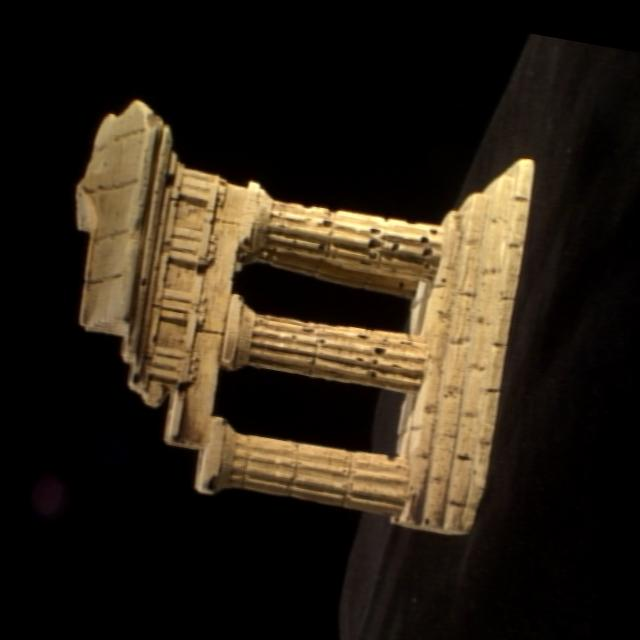Instance-Segmentation: (75, 100, 532, 532)
